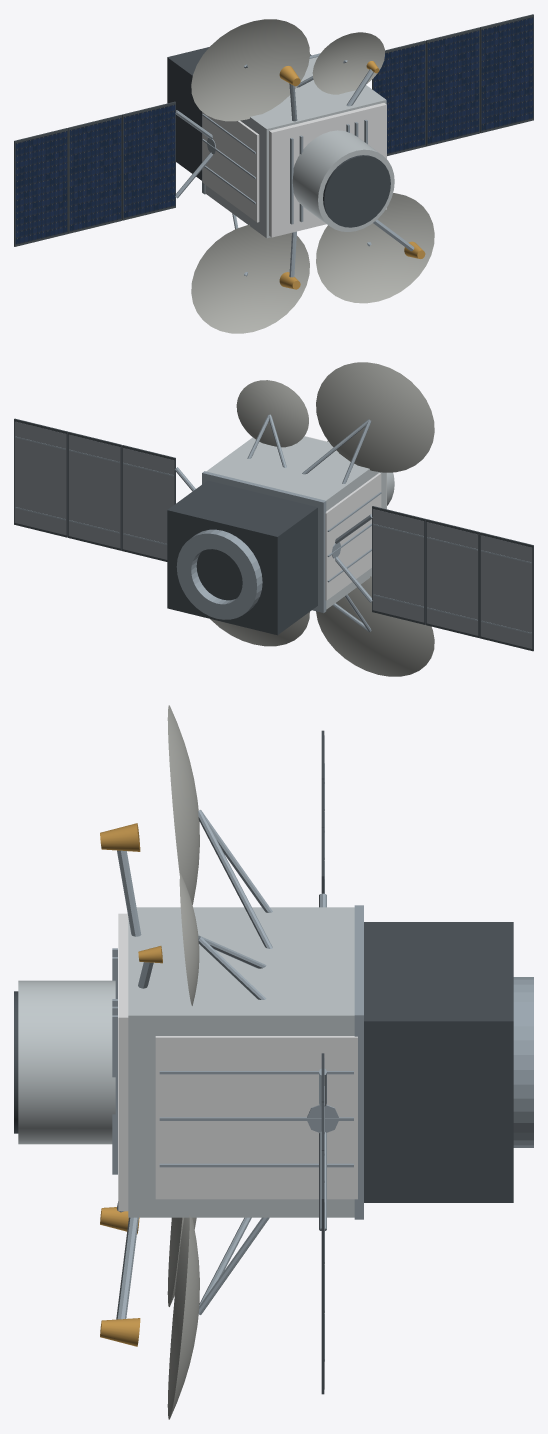
File: maxar-1300-tempo-instrument.glb
3 views of the same model, one above another, from view 1: azimuth 30°, elevation 25°; view 2: azimuth 150°, elevation 25°; view 3: azimuth 270°, elevation 25° (orthographic). The views are drawn at different scales.
Parts seen in each view (by area): view 1: Solar cell panel (×6), Communications reflector (×4), Earth-facing deck, Payload module, Radiator face, Optical instrument housing, Telescope aperture, Solar panel frame (×5), Service module; view 2: Rear array substrate (×6), Communications reflector (×4), Service module, Payload module, Launch adapter ring, Radiator face, Solar panel frame (×6), Module interface; view 3: Service module, Payload module, Radiator face, Optical instrument housing, Communications reflector (×4), Launch adapter ring, Earth-facing deck, Module interface, Offset feed boom (×2), Shell hinge strut (×2), Feed horn (×2), Solar panel frame (+2 smaller).
Boxes of the visible parts, bbox=[...] form: Solar cell panel (×6): bbox=[15, 17, 533, 244]; Communications reflector (×4): bbox=[191, 19, 434, 333]; Earth-facing deck: bbox=[269, 103, 386, 237]; Payload module: bbox=[205, 57, 386, 238]; Radiator face: bbox=[202, 112, 259, 222]; Optical instrument housing: bbox=[292, 130, 394, 231]; Telescope aperture: bbox=[323, 155, 390, 227]; Solar panel frame (×5): bbox=[14, 14, 533, 246]; Service module: bbox=[167, 47, 311, 180]; Rear array substrate (×6): bbox=[14, 421, 532, 648]; Communications reflector (×4): bbox=[210, 362, 434, 676]; Service module: bbox=[167, 480, 317, 635]; Payload module: bbox=[206, 436, 386, 609]; Launch adapter ring: bbox=[176, 529, 262, 619]; Radiator face: bbox=[325, 473, 381, 600]; Solar panel frame (×6): bbox=[14, 418, 533, 651]; Module interface: bbox=[202, 471, 326, 612]; Service module: bbox=[364, 922, 513, 1202]; Payload module: bbox=[128, 907, 354, 1217]; Radiator face: bbox=[155, 1036, 357, 1199]; Optical instrument housing: bbox=[18, 980, 115, 1144]; Communications reflector (×4): bbox=[167, 705, 199, 1419]; Launch adapter ring: bbox=[513, 977, 533, 1147]; Earth-facing deck: bbox=[118, 913, 128, 1211]; Module interface: bbox=[354, 905, 363, 1219]; Offset feed boom (×2): bbox=[116, 850, 141, 1319]; Shell hinge strut (×2): bbox=[198, 810, 272, 1314]; Feed horn (×2): bbox=[100, 823, 140, 1346]; Solar panel frame: bbox=[321, 1151, 324, 1394].
Bounding box in the file's own units: 25.97 × 14.86 × 12.18.
8 materials, 1 textured.
